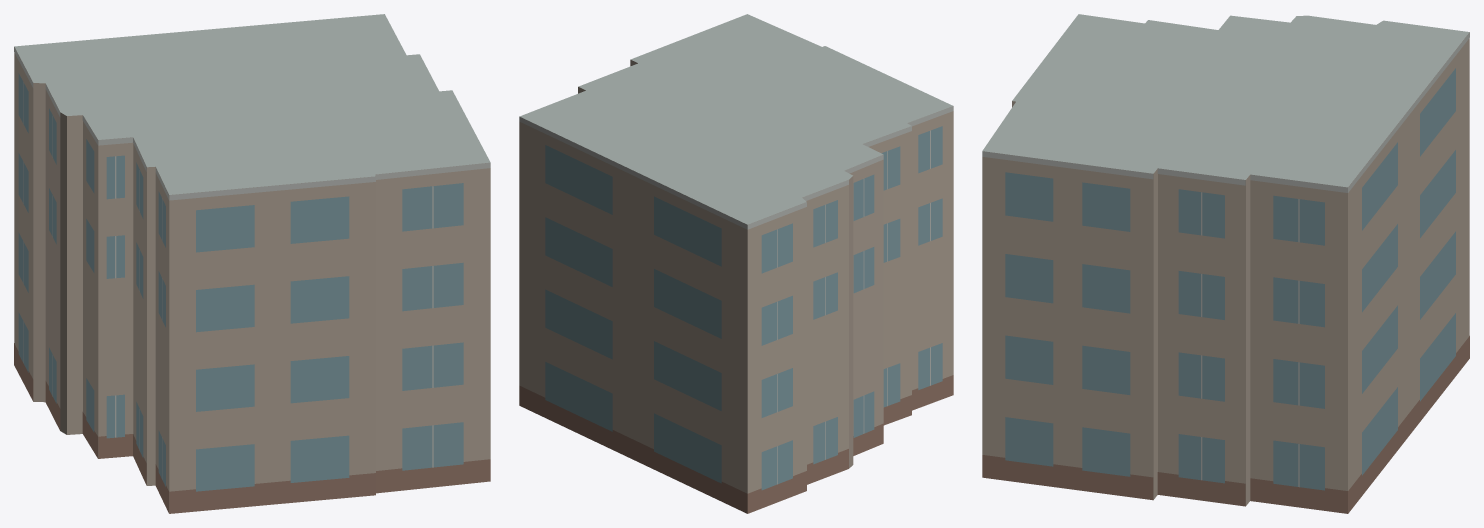
The model's file is survey-upis-33022376.glb.
The picture shows the model from 3 angles, left to right: view 1: azimuth 30°, elevation 25°; view 2: azimuth 150°, elevation 25°; view 3: azimuth 270°, elevation 25°; orthographic projection. The views are drawn at different scales.
Visible parts, largest first — view 1: survey-upis-33022376.tmp; view 2: survey-upis-33022376.tmp; view 3: survey-upis-33022376.tmp.
Boxes of the visible parts, x1=… form: survey-upis-33022376.tmp: x1=14, y1=14, x2=490, y2=513; survey-upis-33022376.tmp: x1=519, y1=14, x2=953, y2=513; survey-upis-33022376.tmp: x1=982, y1=14, x2=1469, y2=513.
Size of the model in its own units: 16.05 by 14.07 by 19.06.
